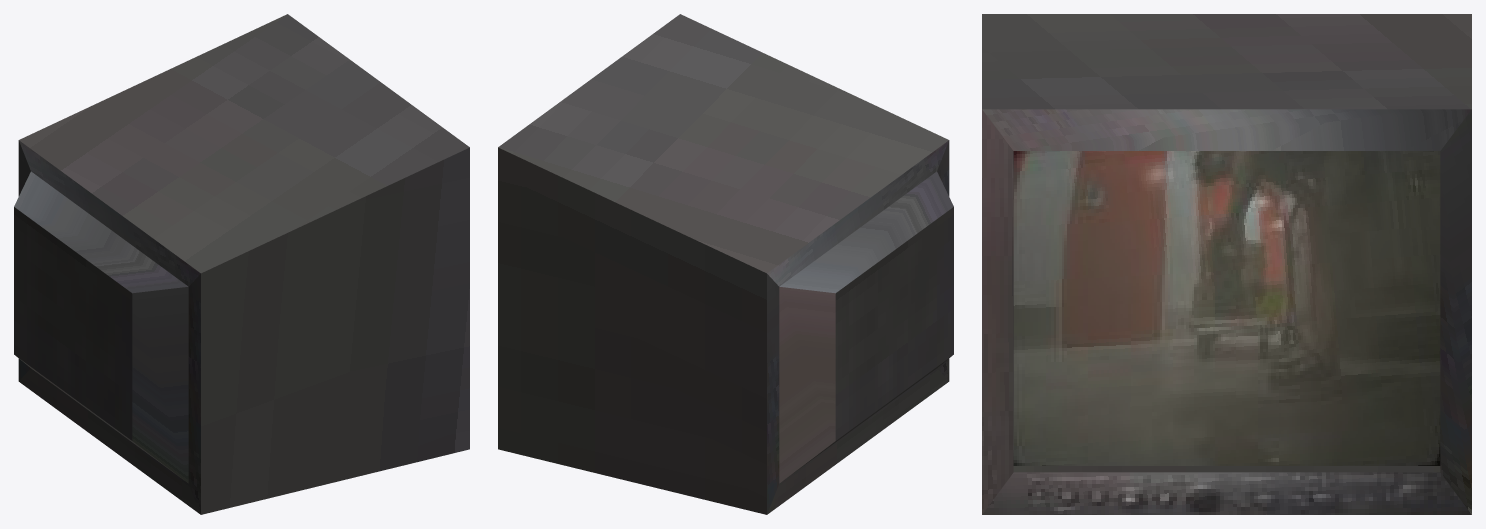
The picture shows the model from 3 angles, left to right: view 1: azimuth 30°, elevation 25°; view 2: azimuth 150°, elevation 25°; view 3: azimuth 270°, elevation 25°; orthographic projection. The views are drawn at different scales.
Parts seen in each view (by area): view 1: tv; view 2: tv; view 3: tv.
Part boxes in pixels (x1=…): tv: x1=14, y1=14, x2=469, y2=514; tv: x1=498, y1=14, x2=953, y2=514; tv: x1=982, y1=14, x2=1471, y2=514.
Bounding box in the file's own units: 0.7612 × 0.7184 × 0.786.
Materials: 1 (1 with a texture image).
